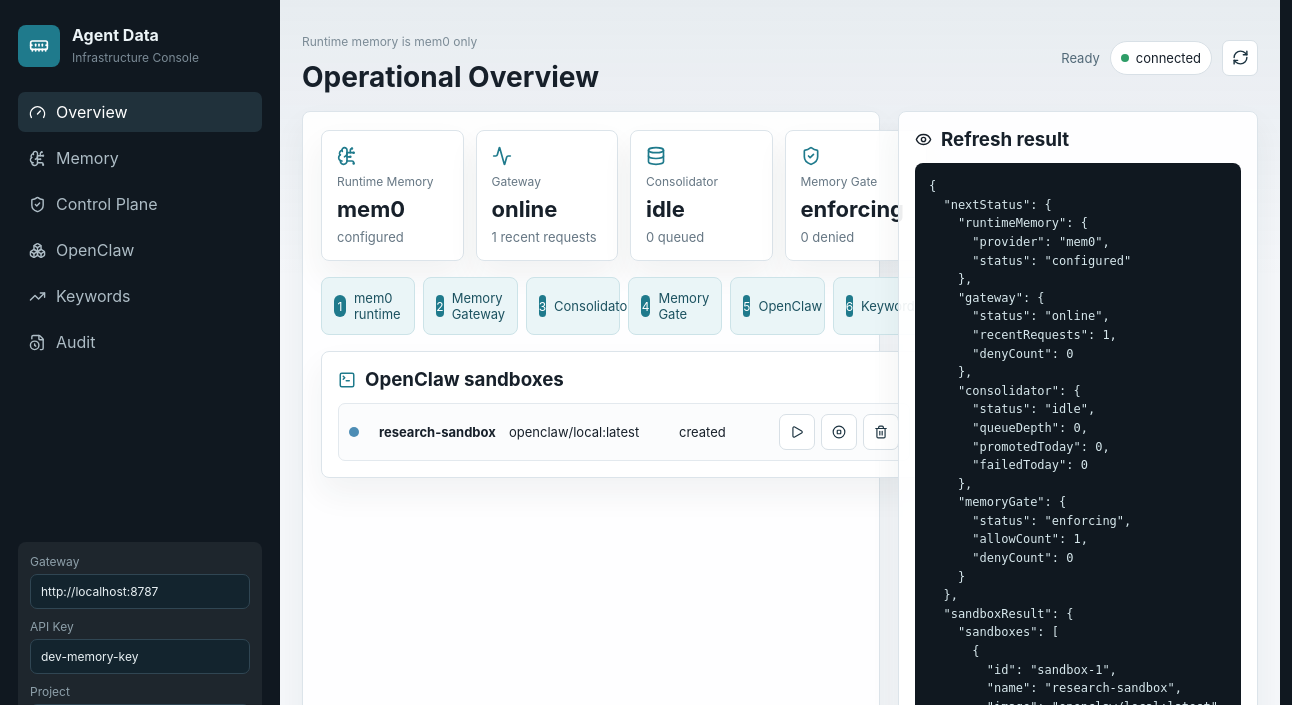
it: App › shows recall results in the memory workbench
Click the button "Memory": (140, 158) x1=18 y1=138 x2=262 y2=178
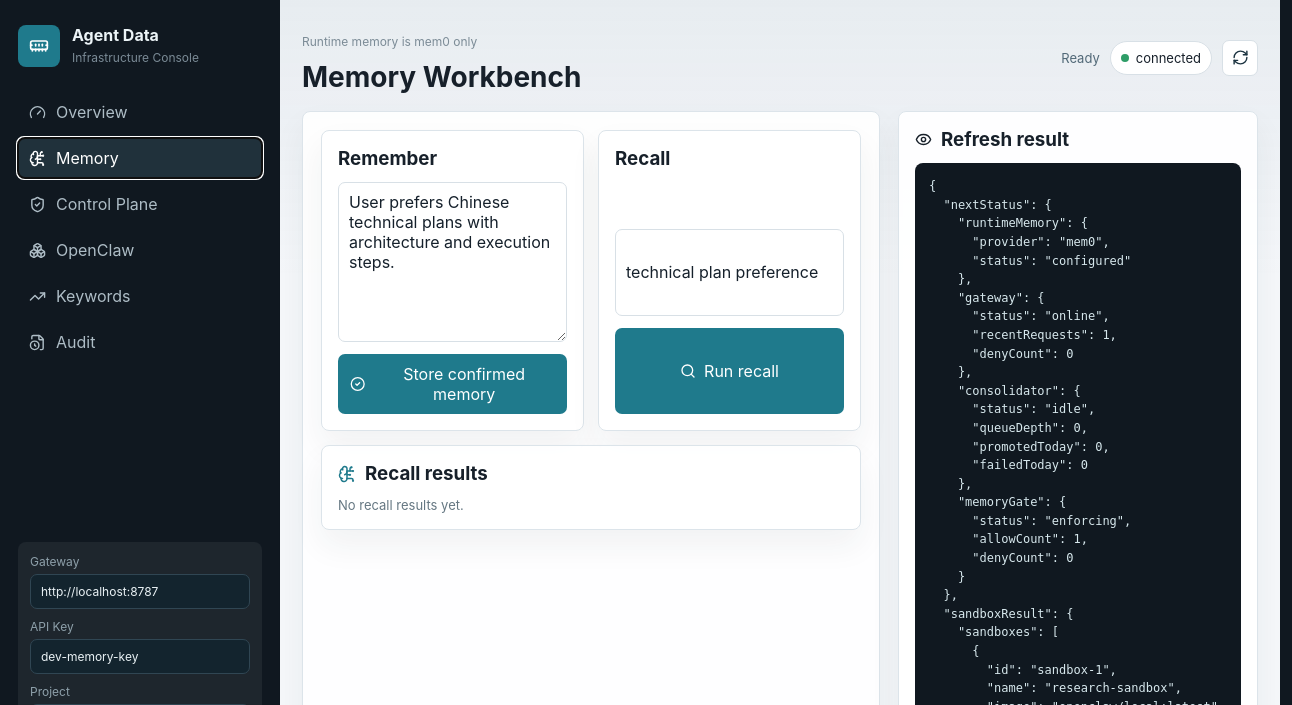
Click the button "Run recall": (730, 371) x1=615 y1=328 x2=844 y2=414
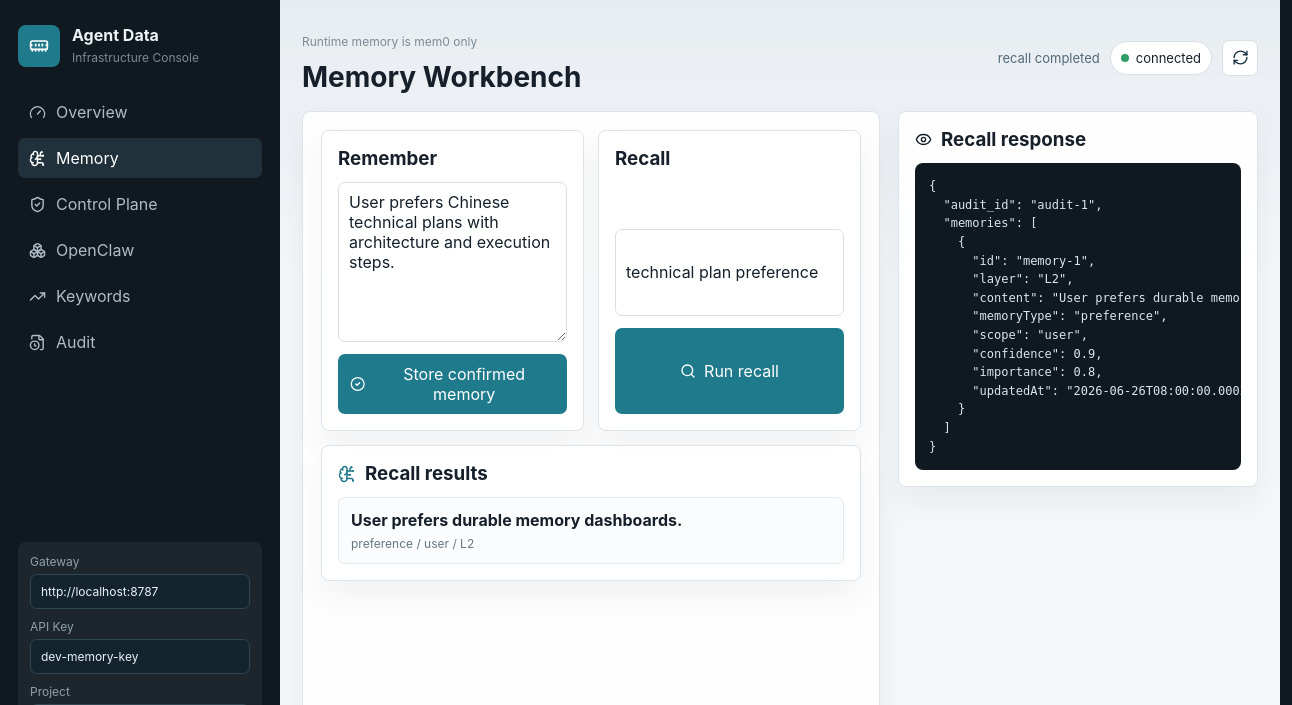
Expected: the text "User prefers durable memory dashboards." is shown, x1=351 y1=510 x2=682 y2=530
